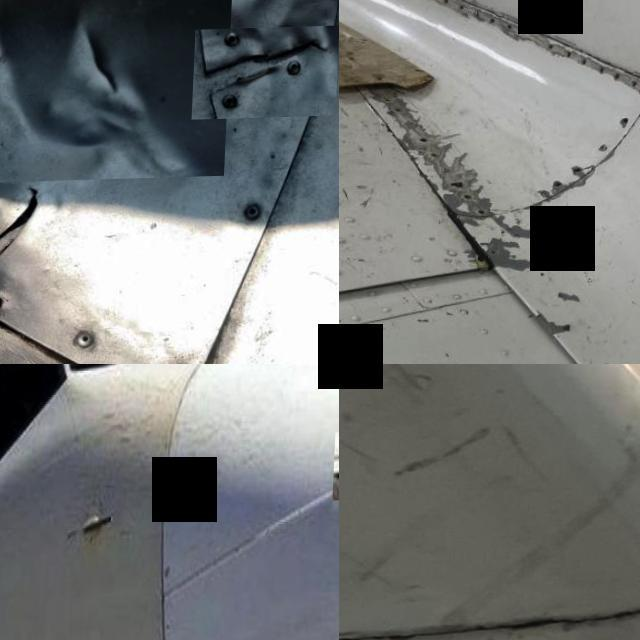Crack: (195, 28, 339, 121), (0, 174, 60, 321), (617, 55, 640, 99)
Dent: (0, 0, 240, 183)
Missing_Fastener: (547, 45, 556, 52), (385, 98, 393, 105), (581, 60, 590, 66), (421, 138, 430, 144), (506, 26, 514, 32), (622, 120, 630, 126), (459, 6, 466, 12), (443, 0, 450, 6), (480, 211, 488, 216), (466, 196, 476, 200), (600, 70, 606, 76), (489, 20, 496, 25), (566, 54, 574, 58)
